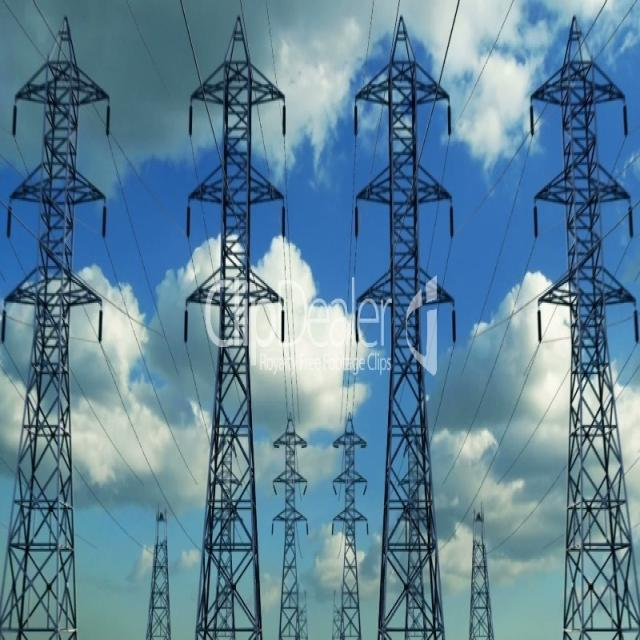non-critical vegetation: (528, 31, 630, 629), (354, 11, 452, 628), (2, 38, 102, 634), (186, 42, 270, 624), (325, 414, 364, 633), (265, 416, 304, 634)
